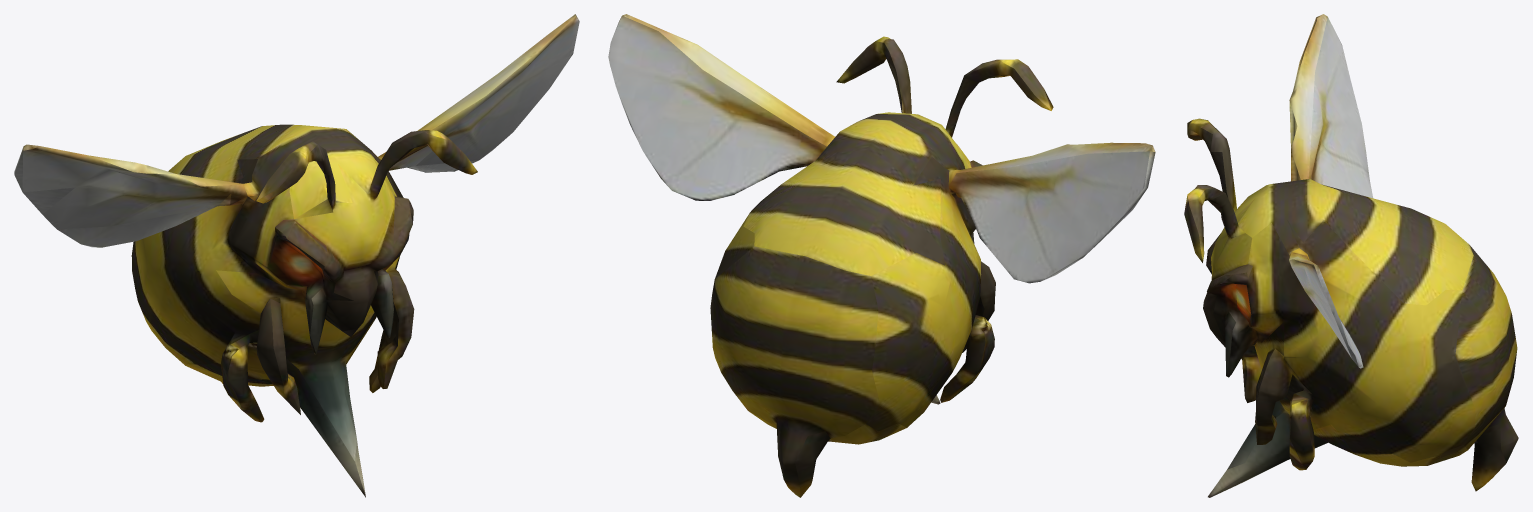
Rendered from m_abeille.glb.
The picture shows the model from 3 angles, left to right: view 1: azimuth 30°, elevation 25°; view 2: azimuth 150°, elevation 25°; view 3: azimuth 270°, elevation 25°; orthographic projection. The views are drawn at different scales.
Parts seen in each view (by area): view 1: monstre; view 2: monstre; view 3: monstre.
Part boxes in pixels (x1,y1,x2,y2): monstre: (14, 14, 579, 497); monstre: (608, 14, 1155, 497); monstre: (1184, 14, 1518, 497).
Bounding box in the file's own units: 1 × 0.6473 × 0.5519.
Materials: 1 (1 with a texture image).
